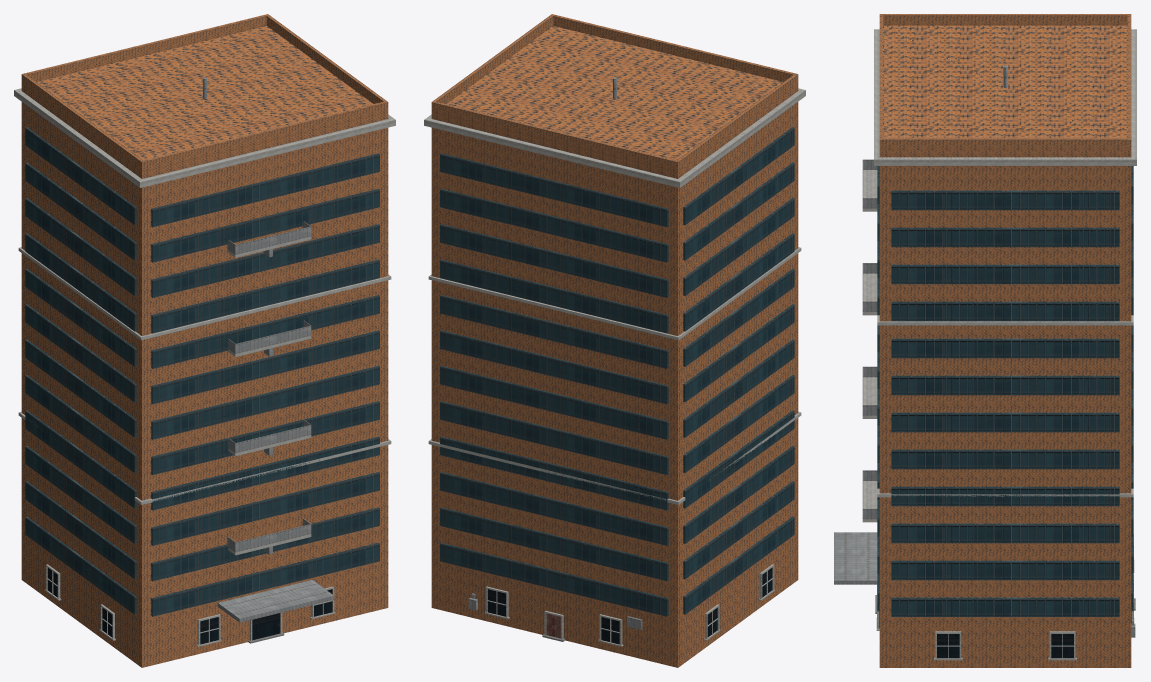
Rendered from monroe-residences_lod0.gltf.
3 renders of one model, left to right at view 1: azimuth 30°, elevation 25°; view 2: azimuth 150°, elevation 25°; view 3: azimuth 270°, elevation 25°, orthographic. The views are drawn at different scales.
Visible parts, largest first — view 1: monroe-residences_main, monroe-residences_fen_07-glass-curtain-blue_0, monroe-residences__cornice, monroe-residences__parapet_front, monroe-residences__parapet_back, monroe-residences__canopy, monroe-residences__string_course_2, monroe-residences_fen_07-glass-curtain-blue_2_t, monroe-residences__parapet_left, monroe-residences__parapet_right, monroe-residences_fen_15-concrete-boardformed_1, monroe-residences__string_course_1 (+4 smaller); view 2: monroe-residences_main, monroe-residences_fen_07-glass-curtain-blue_0, monroe-residences__cornice, monroe-residences__parapet_back, monroe-residences__parapet_front, monroe-residences__string_course_2, monroe-residences__parapet_left, monroe-residences__parapet_right, monroe-residences_fen_15-concrete-boardformed_1, monroe-residences_fen_07-glass-curtain-blue_2_t, monroe-residences__string_course_1; view 3: monroe-residences_main, monroe-residences_fen_07-glass-curtain-blue_0, monroe-residences__cornice, monroe-residences__parapet_left, monroe-residences__parapet_right, monroe-residences__canopy, monroe-residences__string_course_2, monroe-residences_fen_07-glass-curtain-blue_2_t, monroe-residences_fen_15-concrete-boardformed_1, monroe-residences__string_course_1, monroe-residences__parapet_front, monroe-residences__parapet_back (+4 smaller).
Boxes of the visible parts, <box> form: monroe-residences_main: <box>21,26,388,667</box>; monroe-residences_fen_07-glass-curtain-blue_0: <box>25,127,379,616</box>; monroe-residences__cornice: <box>14,88,395,187</box>; monroe-residences__parapet_front: <box>140,101,388,171</box>; monroe-residences__parapet_back: <box>21,14,269,84</box>; monroe-residences__canopy: <box>217,580,334,622</box>; monroe-residences__string_course_2: <box>18,247,391,340</box>; monroe-residences_fen_07-glass-curtain-blue_2_t: <box>47,568,332,644</box>; monroe-residences__parapet_left: <box>23,74,142,170</box>; monroe-residences__parapet_right: <box>266,15,386,103</box>; monroe-residences_fen_15-concrete-boardformed_1: <box>45,564,335,646</box>; monroe-residences__string_course_1: <box>18,411,391,504</box>; monroe-residences_main: <box>431,26,798,667</box>; monroe-residences_fen_07-glass-curtain-blue_0: <box>440,127,794,616</box>; monroe-residences__cornice: <box>424,88,805,187</box>; monroe-residences__parapet_back: <box>431,101,679,171</box>; monroe-residences__parapet_front: <box>550,14,798,84</box>; monroe-residences__string_course_2: <box>428,247,801,340</box>; monroe-residences__parapet_left: <box>677,74,796,170</box>; monroe-residences__parapet_right: <box>433,15,553,103</box>; monroe-residences_fen_15-concrete-boardformed_1: <box>484,564,774,646</box>; monroe-residences_fen_07-glass-curtain-blue_2_t: <box>487,568,772,644</box>; monroe-residences__string_course_1: <box>428,411,801,504</box>; monroe-residences_main: <box>879,25,1131,667</box>; monroe-residences_fen_07-glass-curtain-blue_0: <box>877,166,1133,616</box>; monroe-residences__cornice: <box>874,29,1136,165</box>; monroe-residences__parapet_left: <box>883,14,1127,25</box>; monroe-residences__parapet_right: <box>883,138,1127,149</box>; monroe-residences__canopy: <box>834,532,877,584</box>; monroe-residences__string_course_2: <box>877,315,1133,325</box>; monroe-residences_fen_07-glass-curtain-blue_2_t: <box>879,611,1131,658</box>; monroe-residences_fen_15-concrete-boardformed_1: <box>876,534,1134,660</box>; monroe-residences__string_course_1: <box>877,488,1133,497</box>; monroe-residences__parapet_front: <box>879,14,883,149</box>; monroe-residences__parapet_back: <box>1127,14,1131,149</box>.
Bounding box in the file's own units: 27 × 52 × 26.5.
